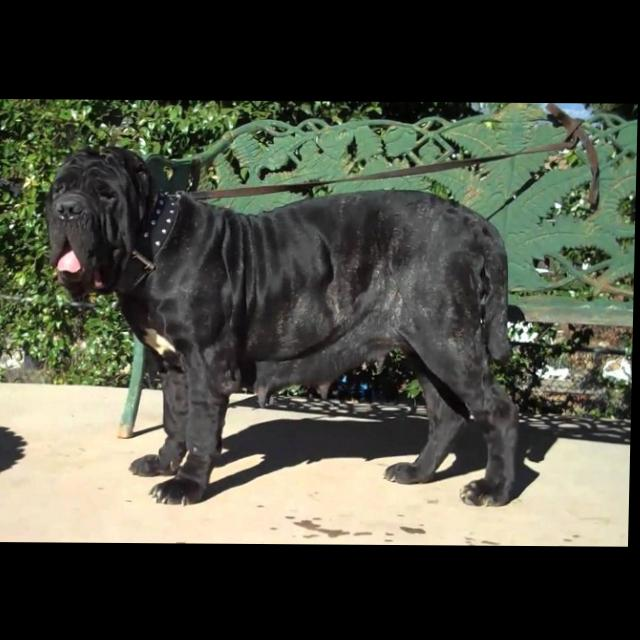mastino_napoletano: (42, 143, 531, 508)
